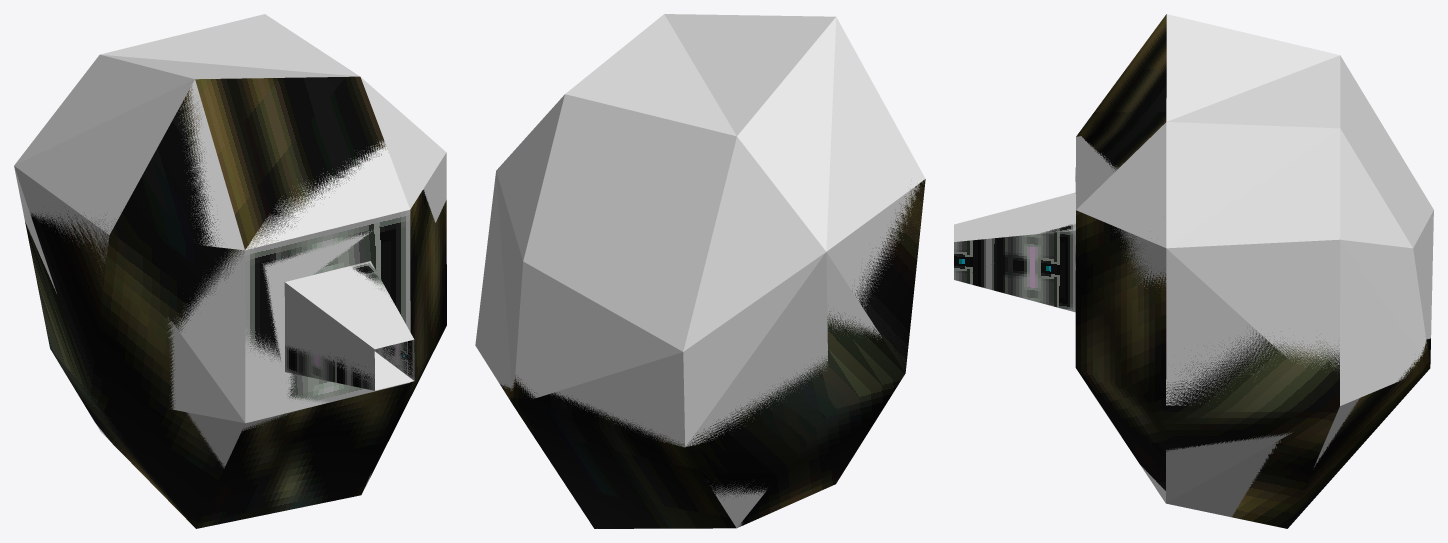
Rendered from laser cannon.fbx.
3 renders of one model, left to right at view 1: azimuth 30°, elevation 25°; view 2: azimuth 150°, elevation 25°; view 3: azimuth 270°, elevation 25°, orthographic. The views are drawn at different scales.
Visible parts, largest first — view 1: fakerock, laser cannon, silver; view 2: laser cannon, fakerock; view 3: laser cannon, fakerock, silver.
Boxes of the visible parts, left/top/right/bottom form: fakerock: left=25, top=76, right=446, bottom=528; laser cannon: left=14, top=14, right=446, bottom=492; silver: left=245, top=210, right=414, bottom=403; laser cannon: left=475, top=14, right=925, bottom=528; fakerock: left=500, top=179, right=925, bottom=528; laser cannon: left=954, top=14, right=1433, bottom=517; fakerock: left=1075, top=14, right=1430, bottom=528; silver: left=954, top=167, right=1075, bottom=312.
Bounding box in the file's own units: 10210 × 13997 × 13800.
